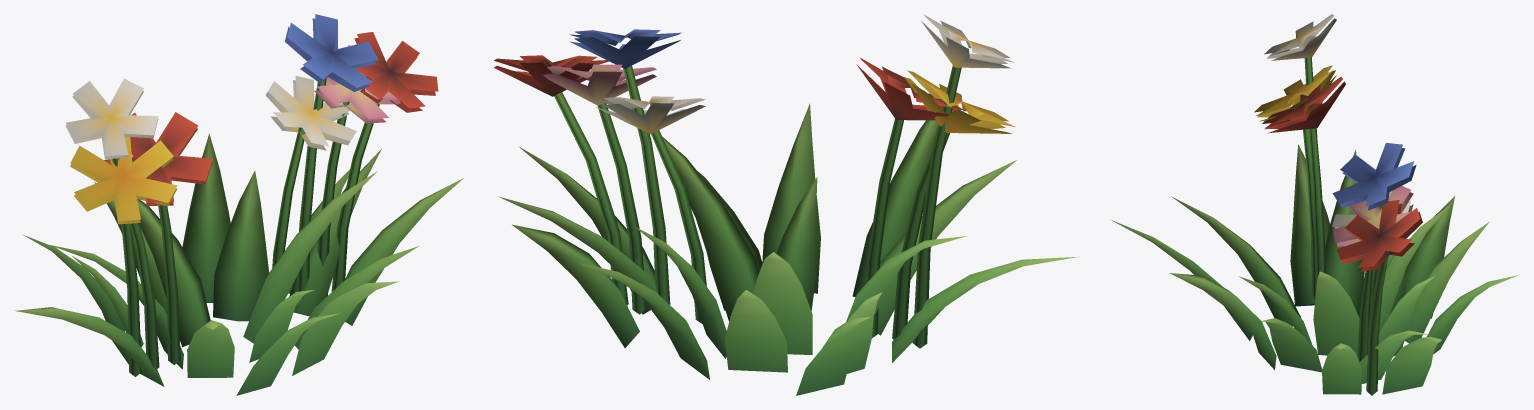
The model's file is FlowerPatch.fbx.
3 renders of one model, left to right at view 1: azimuth 30°, elevation 25°; view 2: azimuth 150°, elevation 25°; view 3: azimuth 270°, elevation 25°, orthographic. The views are drawn at different scales.
Visible parts, largest first — view 1: FlowerPatch; view 2: FlowerPatch; view 3: FlowerPatch.
Part boxes in pixels (x1=…): FlowerPatch: x1=15, y1=14, x2=463, y2=395; FlowerPatch: x1=494, y1=14, x2=1079, y2=395; FlowerPatch: x1=1111, y1=14, x2=1518, y2=395.
Size of the model in its own units: 0.5898 by 0.3605 by 0.499.
